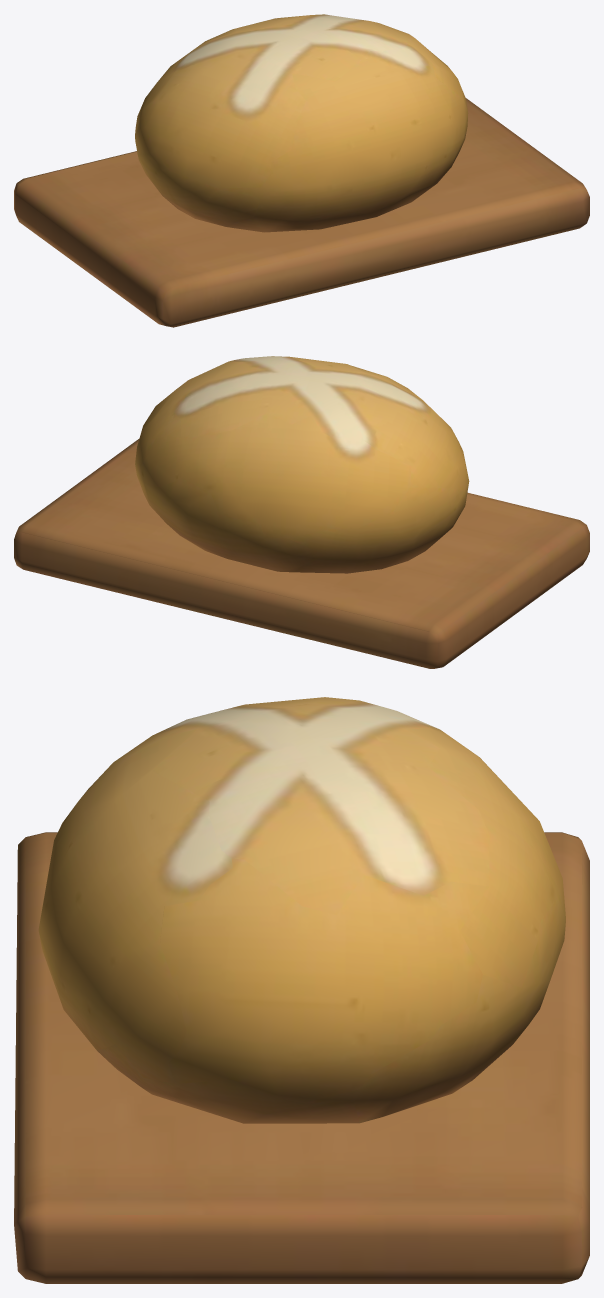
The model's file is bread.glb.
The picture shows the model from 3 angles, top to bottom: view 1: azimuth 30°, elevation 25°; view 2: azimuth 150°, elevation 25°; view 3: azimuth 270°, elevation 25°; orthographic projection. The views are drawn at different scales.
Visible parts, largest first — view 1: loaf; view 2: loaf; view 3: loaf.
Boxes of the visible parts, left/top/right/bottom form: loaf: left=14, top=14, right=589, bottom=327; loaf: left=14, top=356, right=589, bottom=668; loaf: left=14, top=697, right=589, bottom=1283.
Bounding box in the file's own units: 0.4 × 0.169 × 0.25.
Materials: 1 (1 with a texture image).
